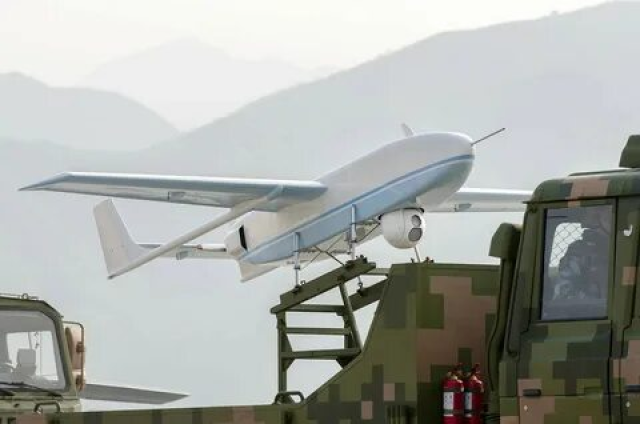military drone: (17, 123, 534, 283)
